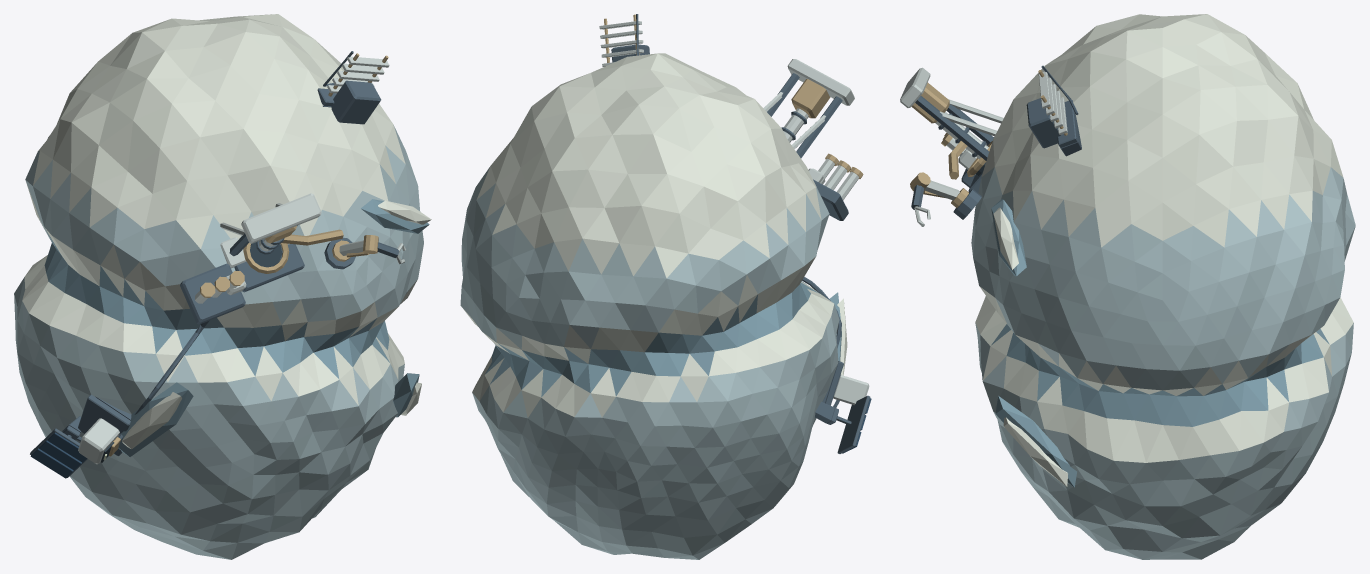
Rendered from kuiper.glb.
3 renders of one model, left to right at view 1: azimuth 30°, elevation 25°; view 2: azimuth 150°, elevation 25°; view 3: azimuth 270°, elevation 25°, orthographic. The views are drawn at different scales.
Parts seen in each view (by area): view 1: S9_kuiper • modeled surfaces; view 2: S9_kuiper • modeled surfaces; view 3: S9_kuiper • modeled surfaces.
Boxes of the visible parts, x1=… form: S9_kuiper • modeled surfaces: x1=14, y1=14, x2=431, y2=559; S9_kuiper • modeled surfaces: x1=460, y1=14, x2=871, y2=559; S9_kuiper • modeled surfaces: x1=900, y1=14, x2=1355, y2=559.
Size of the model in its own units: 1.26 by 1.6 by 1.27.
